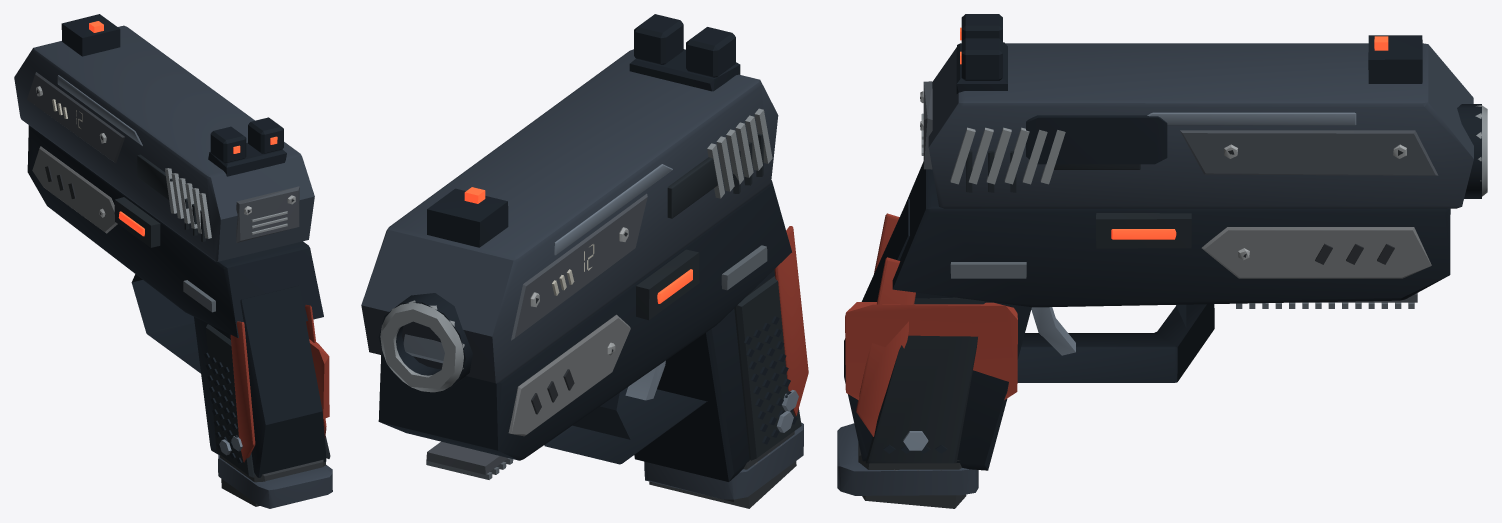
Rendered from pistol.glb.
3 renders of one model, left to right at view 1: azimuth 30°, elevation 25°; view 2: azimuth 150°, elevation 25°; view 3: azimuth 270°, elevation 25°, orthographic. The views are drawn at different scales.
Visible parts, largest first — view 1: body, slide, mag; view 2: slide, body, mag, trigger; view 3: body, slide, mag, trigger.
Boxes of the visible parts, box(x1,y1,x2,y2) form: body: box(27, 125, 330, 477); slide: box(14, 14, 314, 261); mag: box(218, 454, 332, 508); slide: box(361, 14, 778, 383); body: box(378, 180, 808, 481); mag: box(644, 422, 803, 508); trigger: box(625, 360, 665, 400); body: box(844, 104, 1487, 470); slide: box(920, 14, 1473, 208); mag: box(837, 423, 978, 508); trigger: box(1031, 307, 1075, 355).
Bounding box in the file's own units: 0.1308 × 0.3884 × 0.5045.
